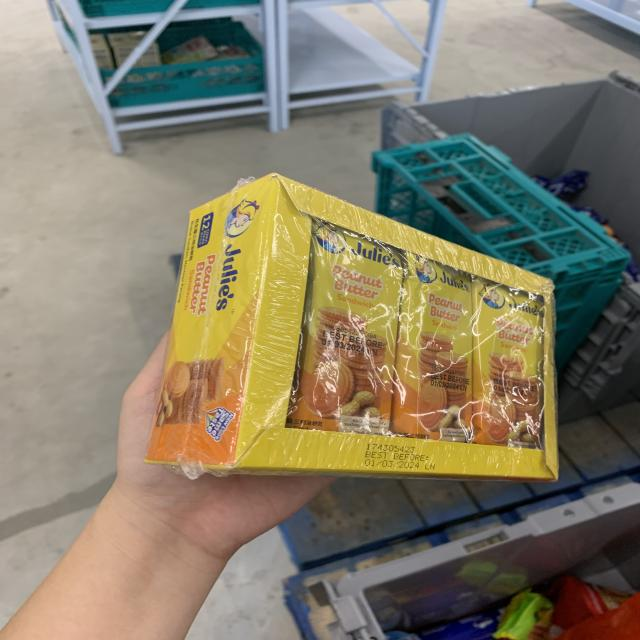object_name: (193, 218, 548, 483)
